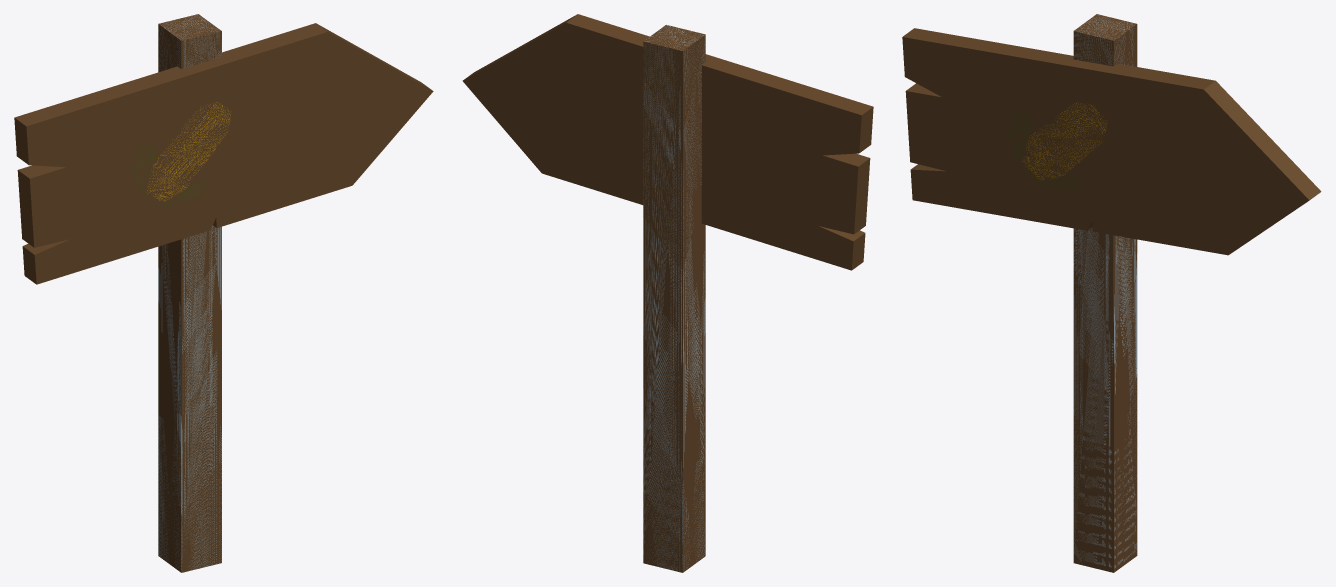
The model's file is Sign_Timber_Corn_01.fbx.
3 renders of one model, left to right at view 1: azimuth 30°, elevation 25°; view 2: azimuth 150°, elevation 25°; view 3: azimuth 330°, elevation 25°, orthographic.
Parts seen in each view (by area): view 1: Model, Group1; view 2: Model, Group1; view 3: Model, Group1.
Boxes of the visible parts, x1,y1,x2,y2 form: Model: [14, 23, 433, 284]; Group1: [158, 14, 221, 572]; Model: [462, 14, 873, 270]; Group1: [643, 25, 705, 572]; Model: [902, 28, 1321, 255]; Group1: [1073, 14, 1137, 572].
Bounding box in the file's own units: 218 × 272 × 29.07.
